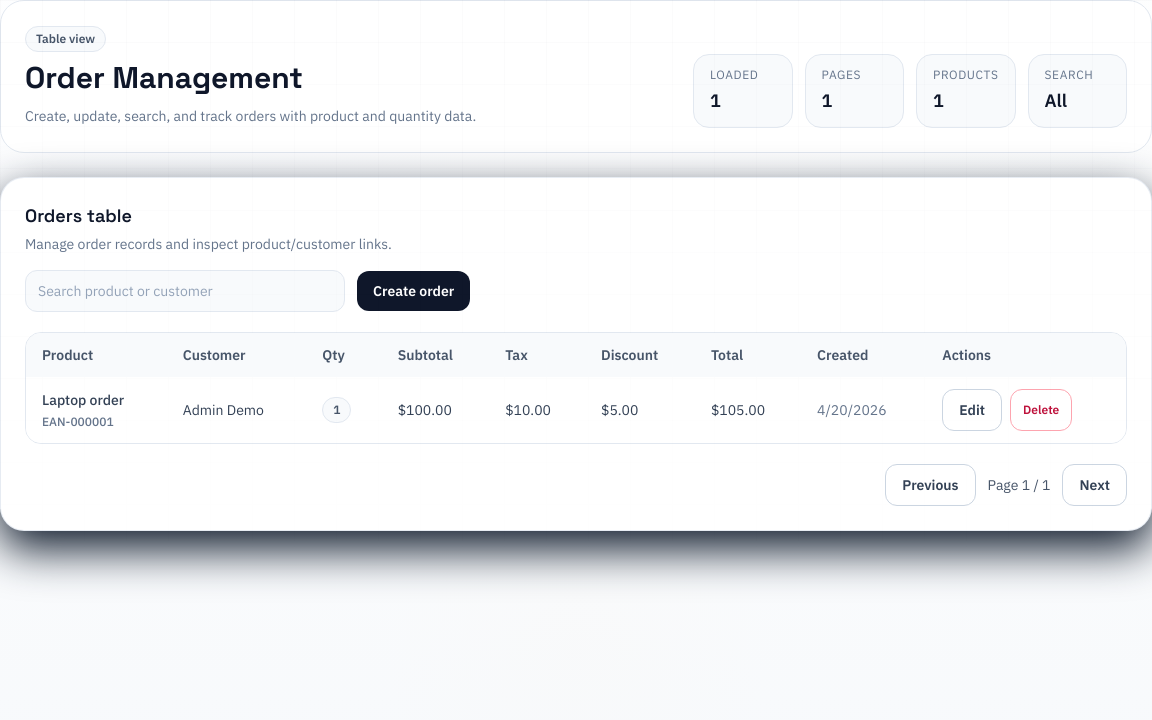
Test: OrdersPage integration › loads table and creates a new order
Expected: the text "Laptop order" is shown, [42,391,124,409]
Click the button "Create order" at (414, 291), box [357,271,470,311]
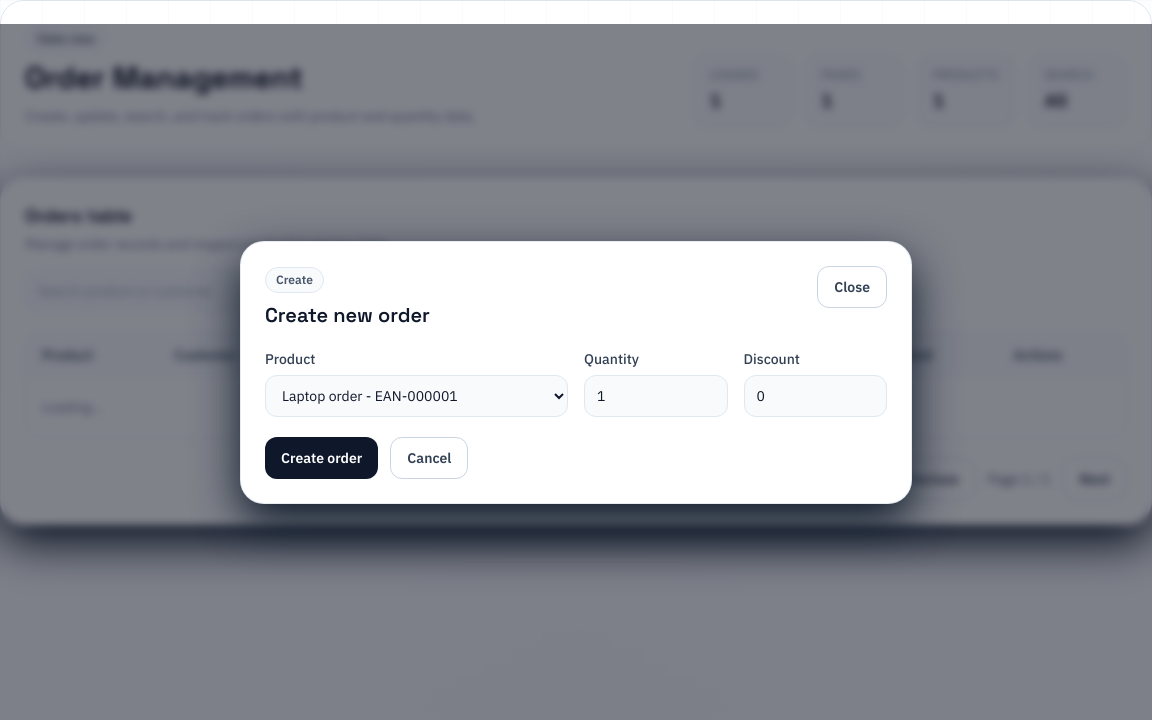
Select "Laptop order - EAN-000001" in the dropdown labelled "Product" at (416, 396), box [265,374,568,416]
Type "2" into the number field labelled "Quantity" at (656, 396), box [584,374,728,416]
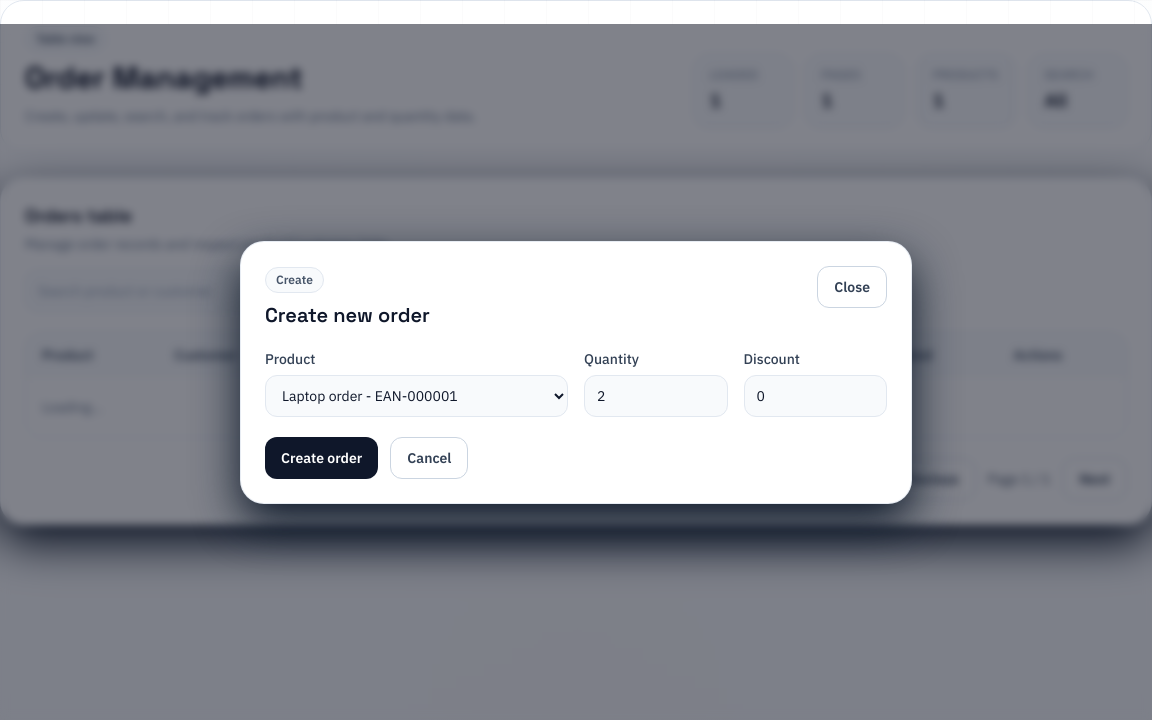
Type "5" into the number field labelled "Discount" at (815, 396), box [744,374,887,416]
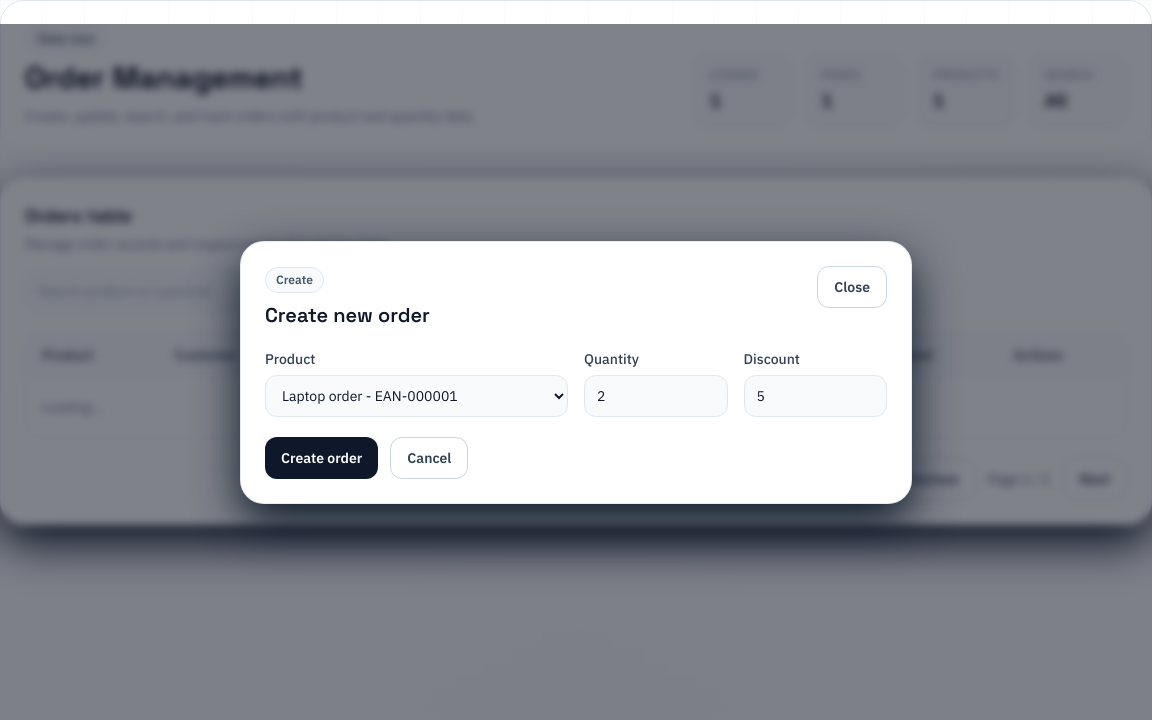
Click the button "Create order" at (322, 458), box [265,436,378,478]
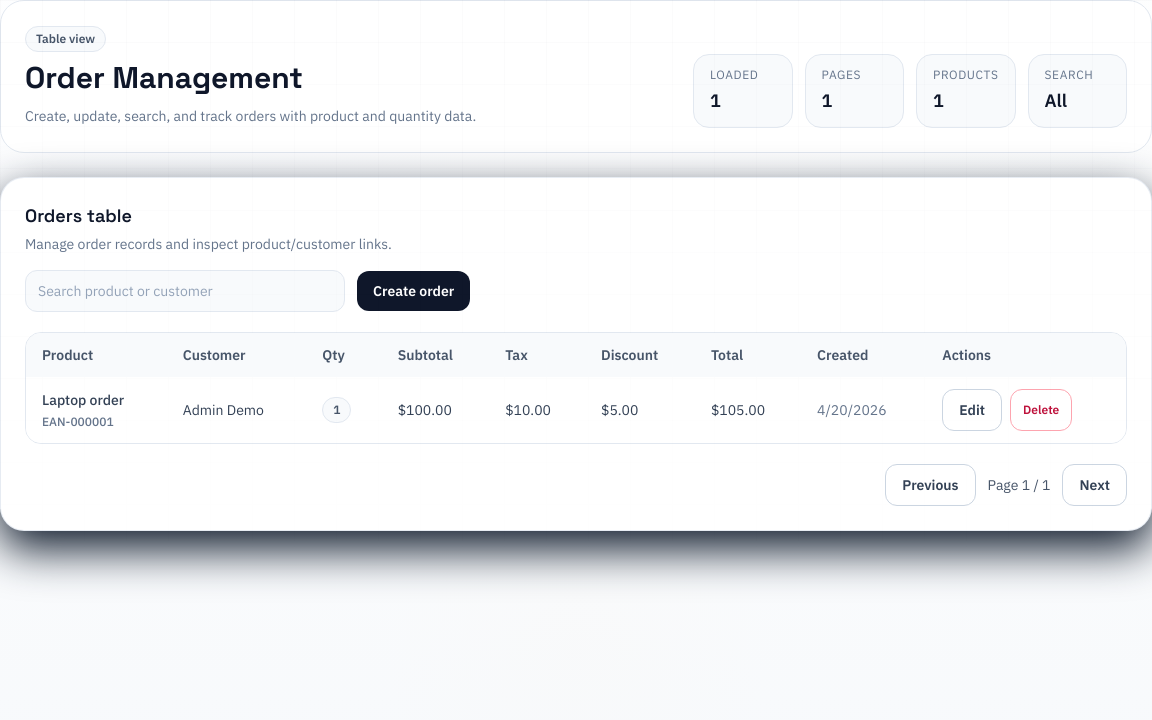
Expected: the dialog is gone
